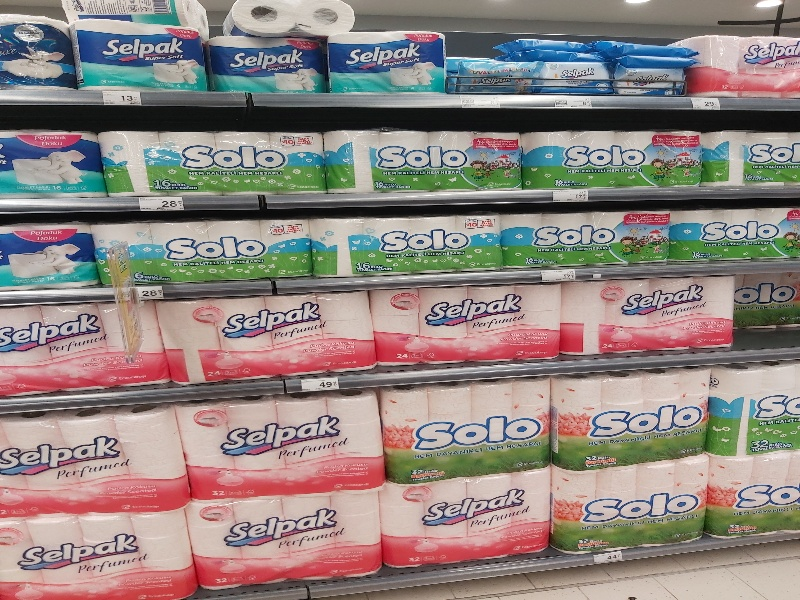product: (182, 480, 385, 592), (169, 394, 382, 490), (377, 460, 561, 568), (1, 401, 191, 503), (1, 498, 190, 600), (146, 292, 379, 374), (94, 121, 329, 201), (374, 375, 554, 476), (312, 124, 529, 199), (549, 364, 716, 461), (369, 281, 568, 362), (555, 451, 709, 551), (562, 269, 739, 356), (1, 298, 165, 388), (81, 220, 317, 281), (518, 126, 705, 198), (308, 212, 508, 276), (62, 17, 210, 95), (705, 445, 800, 553), (495, 208, 671, 263), (1, 120, 109, 209), (208, 23, 326, 99), (330, 20, 448, 96), (710, 365, 800, 462), (682, 26, 800, 99), (659, 205, 800, 261), (1, 220, 107, 290), (701, 123, 800, 189), (437, 52, 532, 96), (538, 52, 612, 99), (610, 56, 684, 103)
